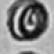correct: (6, 0, 50, 45)
